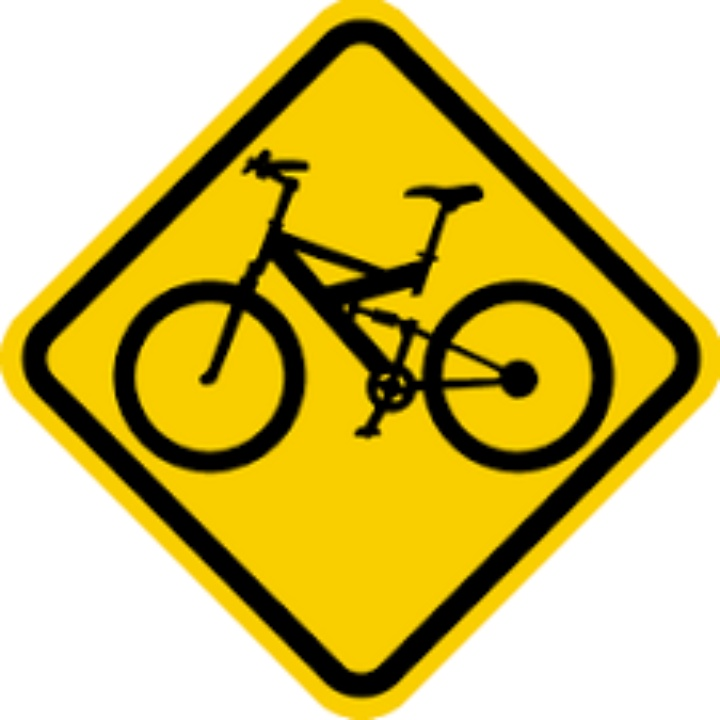bicycle: (113, 149, 617, 477)
